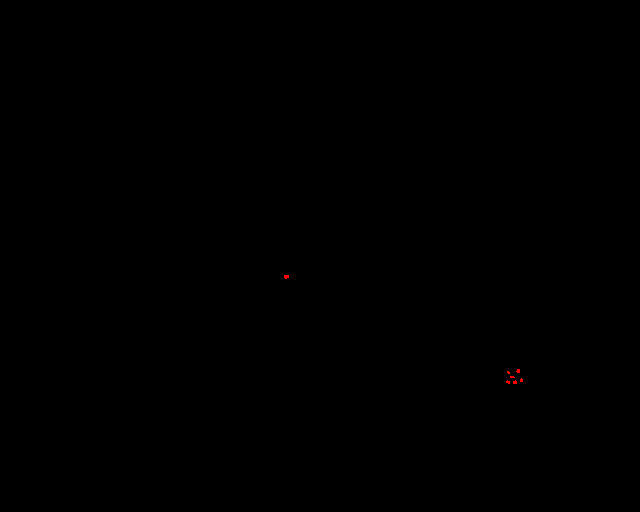Target: (284, 275, 289, 279), (516, 369, 520, 373), (506, 380, 510, 384), (513, 380, 517, 384), (520, 378, 523, 382), (510, 376, 515, 378), (507, 371, 510, 374)
